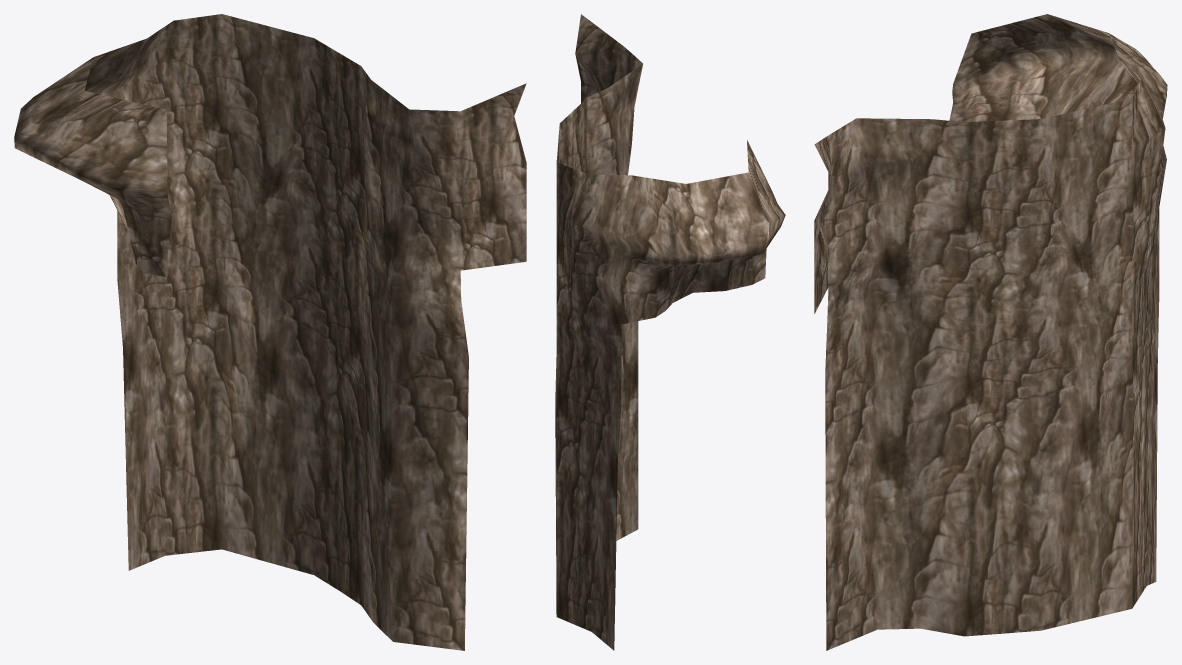
The model's file is OVERHILL_A_01_LINE123.fbx.
The picture shows the model from 3 angles, left to right: view 1: azimuth 30°, elevation 25°; view 2: azimuth 150°, elevation 25°; view 3: azimuth 270°, elevation 25°; orthographic projection. The views are drawn at different scales.
Visible parts, largest first — view 1: OVERHILL_A_01_LINE123; view 2: OVERHILL_A_01_LINE123; view 3: OVERHILL_A_01_LINE123.
Part boxes in pixels (x1,y1,x2,y2): OVERHILL_A_01_LINE123: (14,14,526,650); OVERHILL_A_01_LINE123: (555,14,785,650); OVERHILL_A_01_LINE123: (814,14,1167,650).
Size of the model in its own units: 155138 by 229530 by 136267.
Materials: 1 (1 with a texture image).
